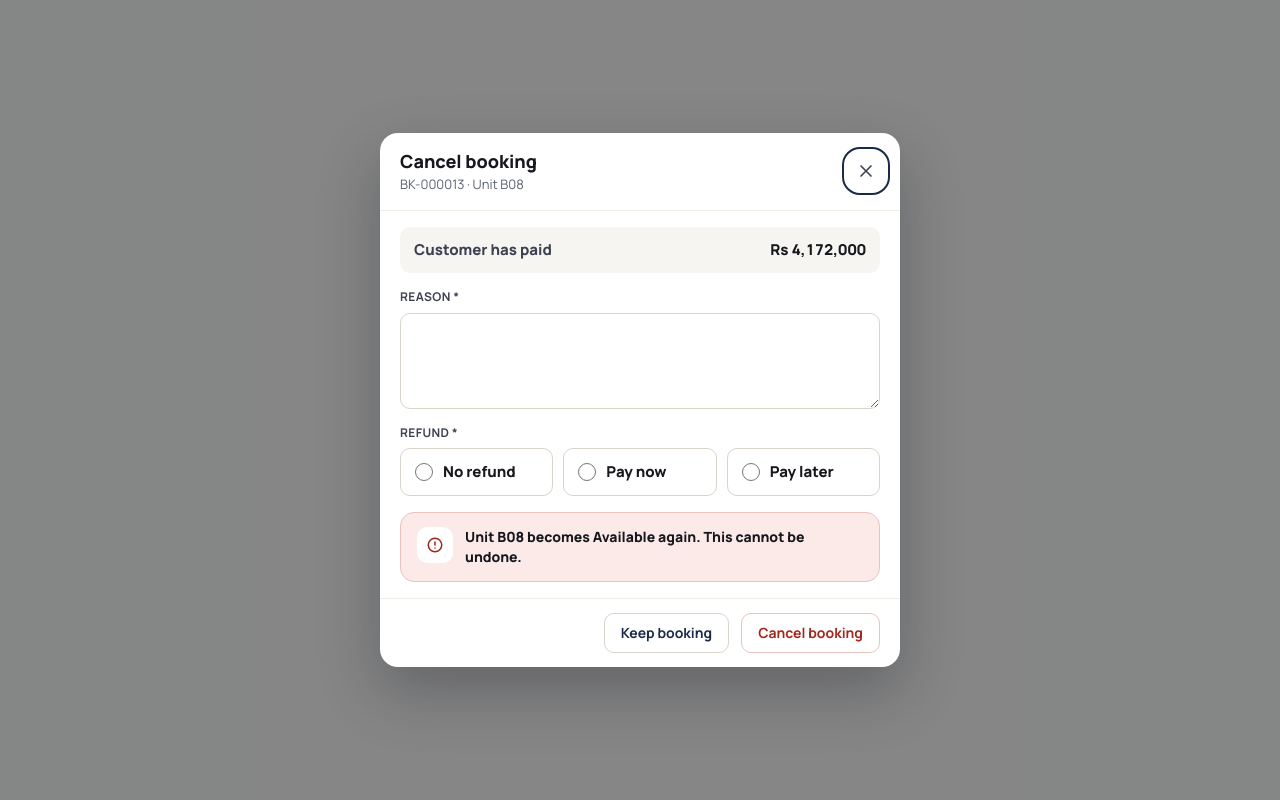
Test: Cancel booking › offers to reload the figures when they went stale, and takes the fresh total
Check: the text "Customer has paid" is shown, box left=414, top=239, right=552, bottom=261
Type "Customer moved abroad" into the text box labelled "Reason *" at (640, 361), box left=400, top=313, right=880, bottom=409
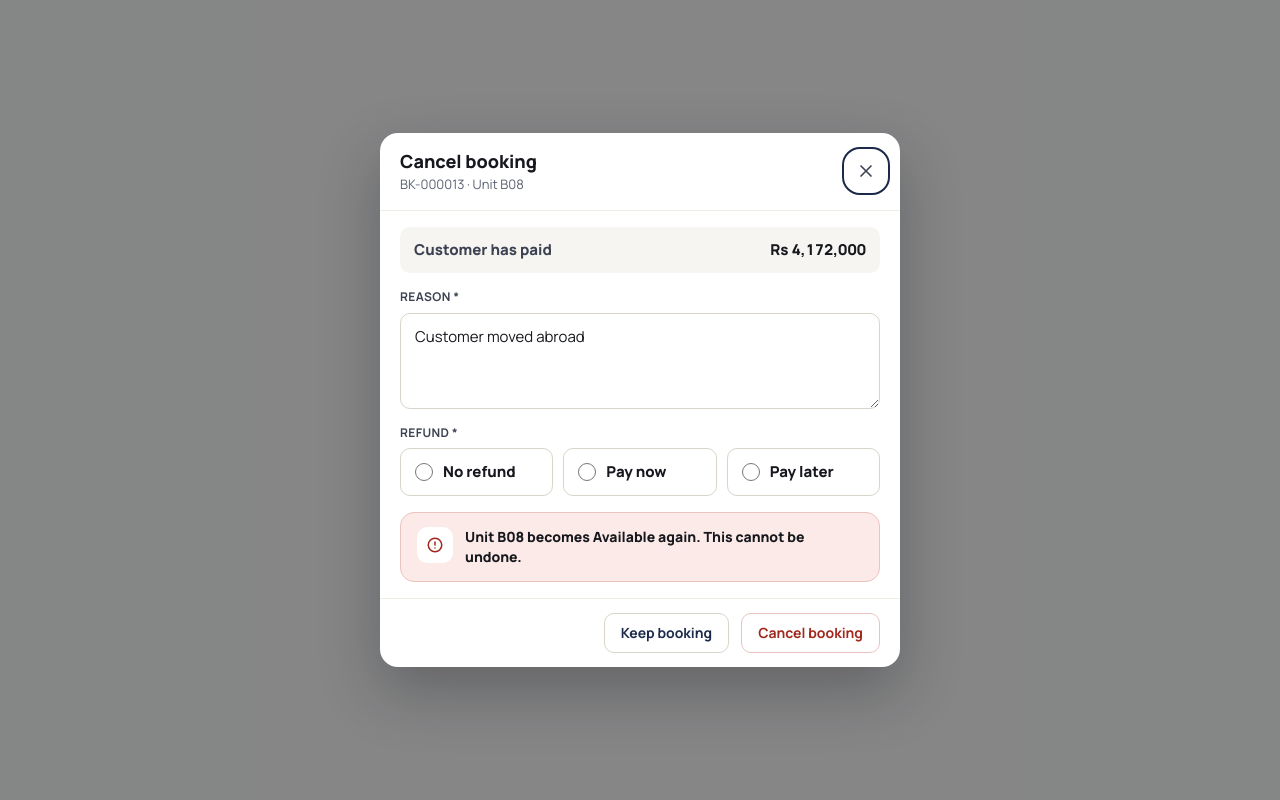
Click the radio button labelled "No refund" at (424, 472), box left=415, top=463, right=433, bottom=481
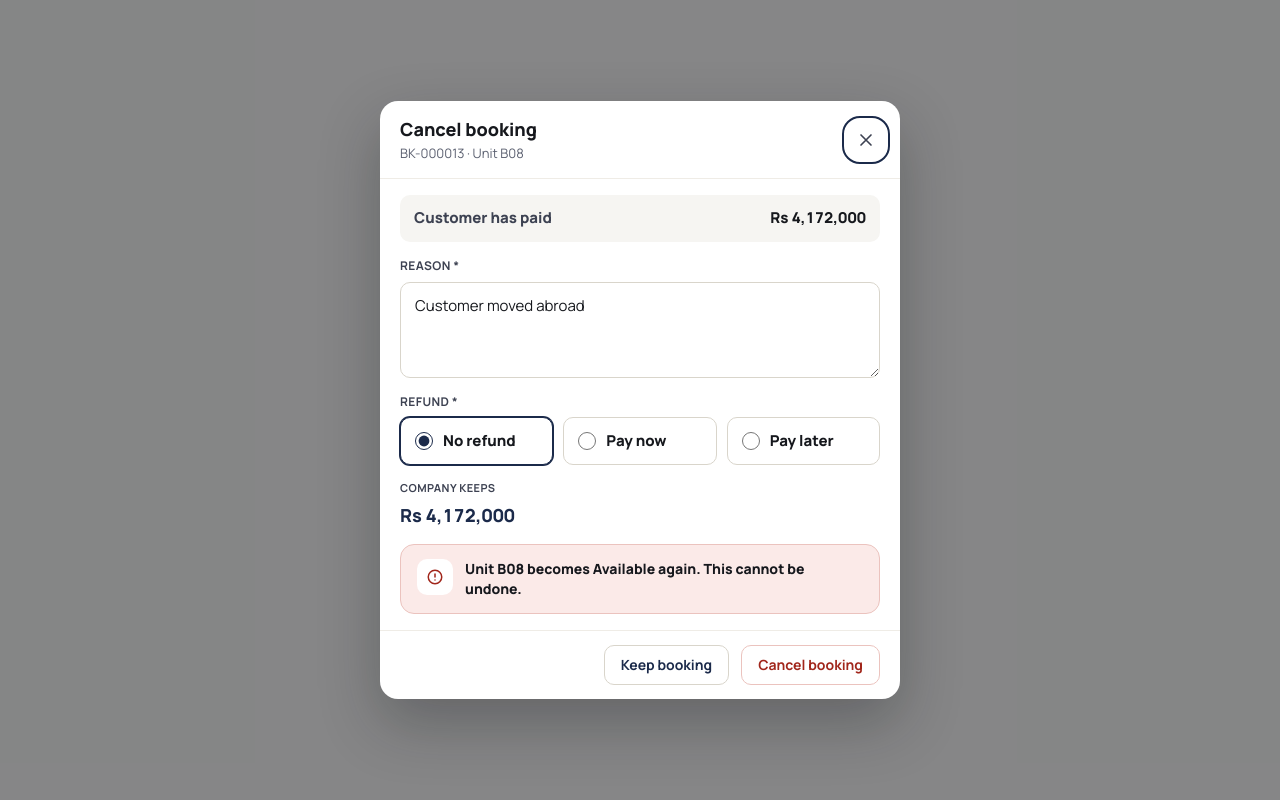
Click the button "Cancel booking" at (811, 665), box left=741, top=645, right=880, bottom=685
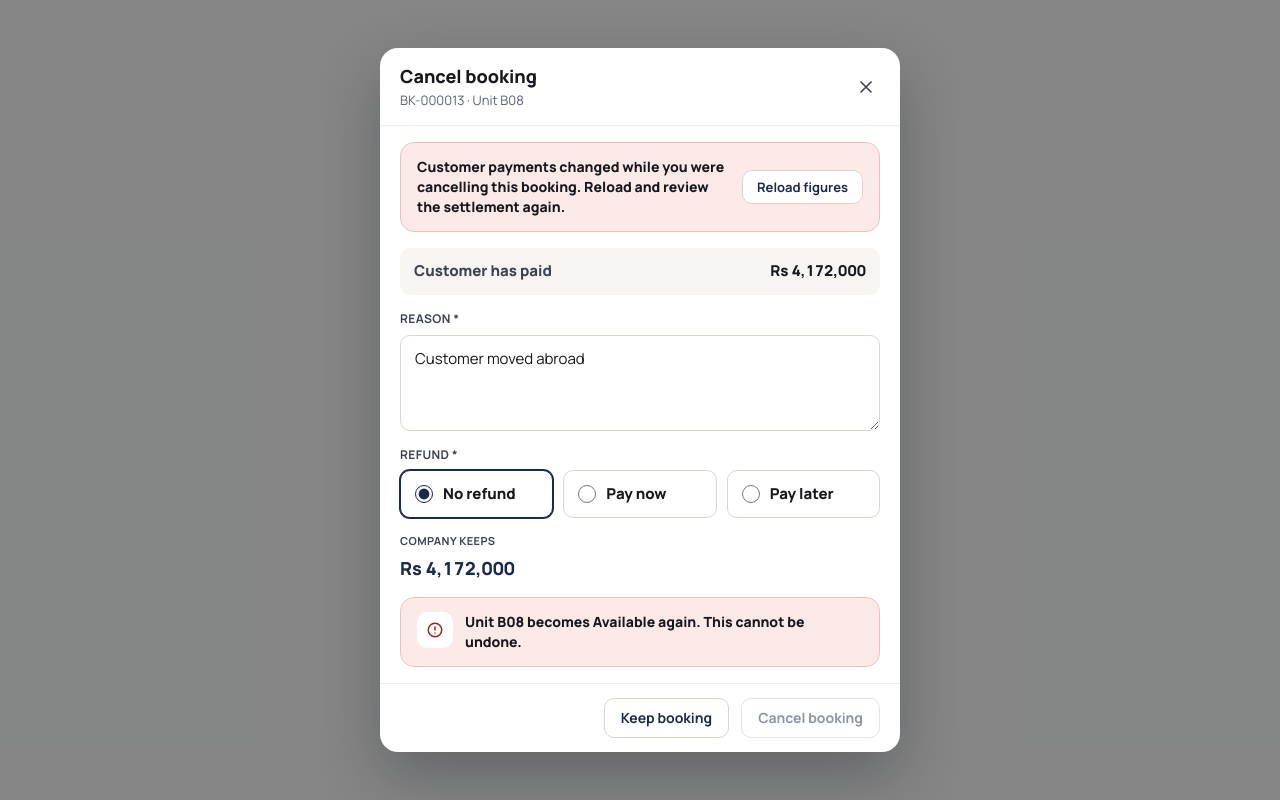
Check: the text "payments changed" is shown, box left=417, top=157, right=724, bottom=216
Click the button "Reload figures" at (802, 187), box left=742, top=170, right=863, bottom=204
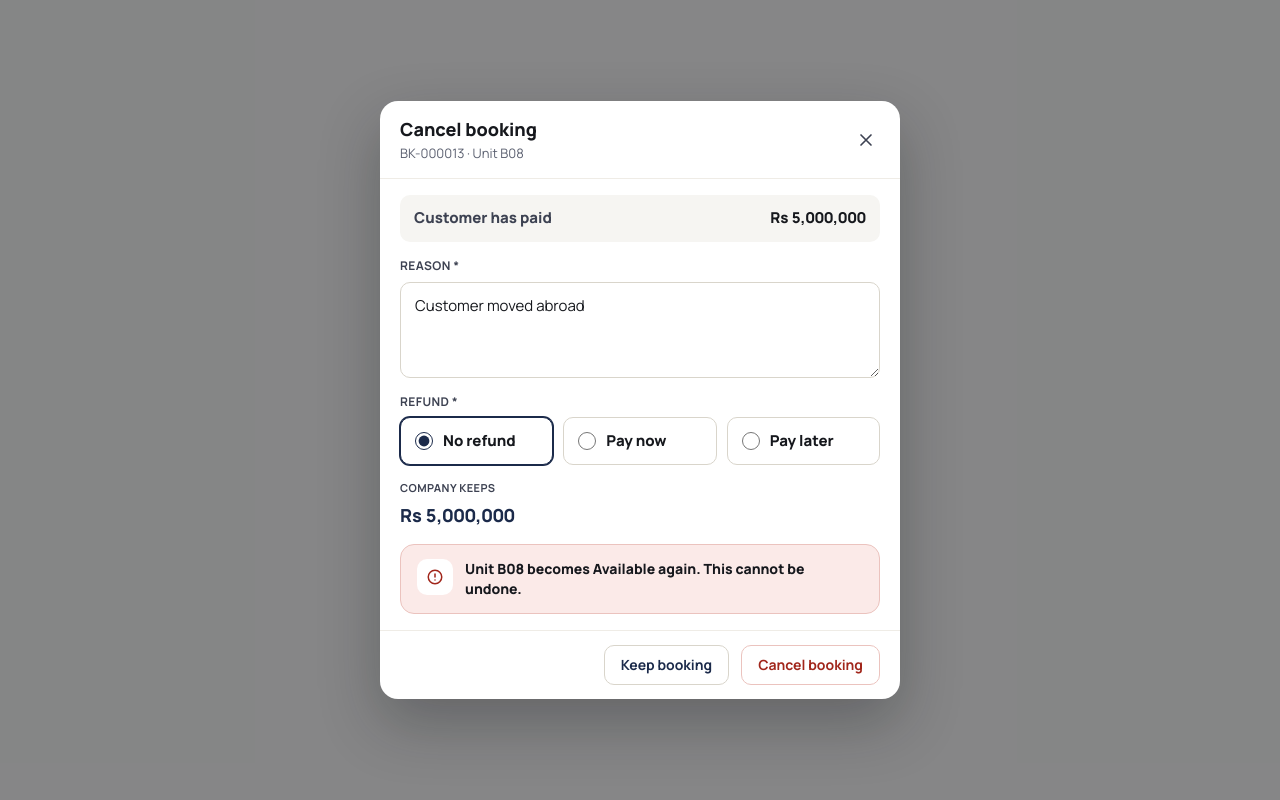
Check: the text "Rs 5,000,000" in the row of "Customer has paid" is shown, box left=770, top=207, right=866, bottom=228
Check: the text "payments changed" is gone
